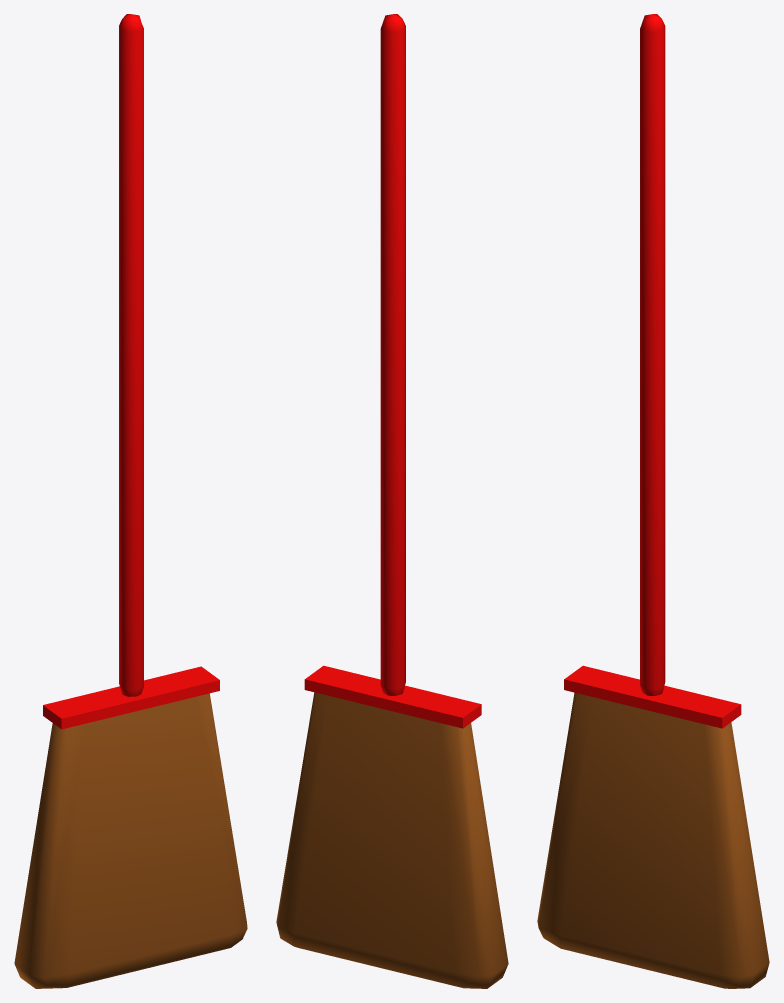
File: Mop.FBX
3 views of the same model, side by side, from view 1: azimuth 30°, elevation 25°; view 2: azimuth 150°, elevation 25°; view 3: azimuth 330°, elevation 25° (orthographic).
Parts seen in each view (by area): view 1: Mop; view 2: Mop; view 3: Mop.
Boxes of the visible parts, <box> form: Mop: <box>14,14,247,988</box>; Mop: <box>276,14,508,988</box>; Mop: <box>537,14,769,988</box>.
Bounding box in the file's own units: 0.3705 × 1.55 × 0.092.
